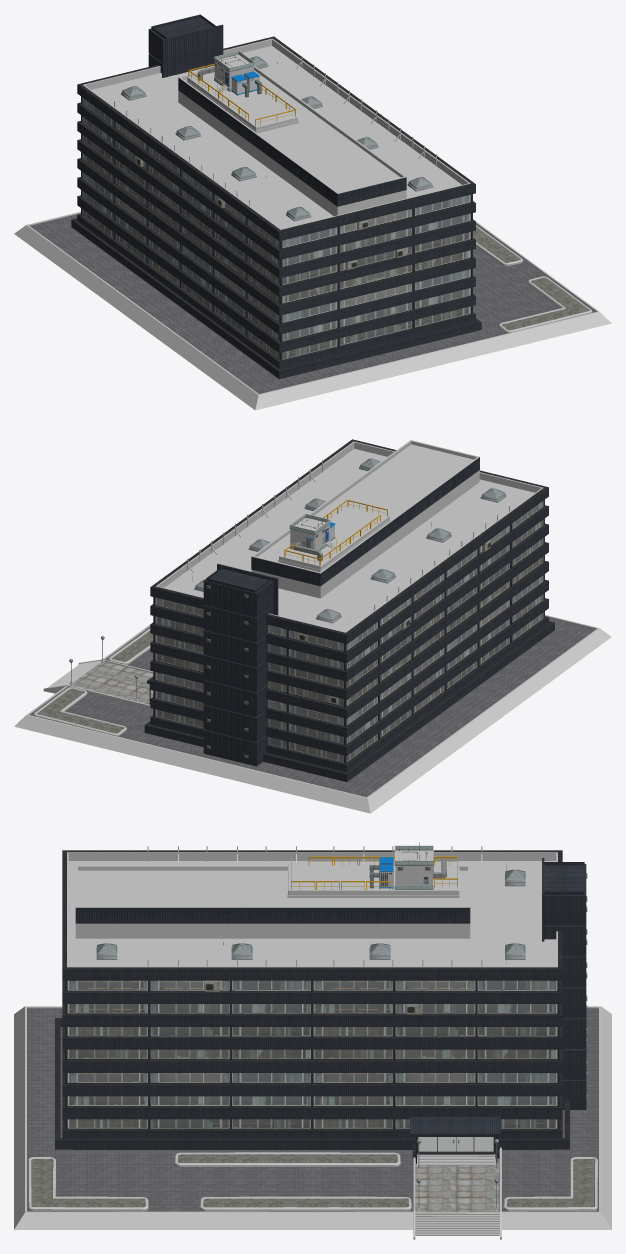
Rendered from u2WBuild1.gltf.
The picture shows the model from 3 angles, top to bottom: view 1: azimuth 30°, elevation 25°; view 2: azimuth 150°, elevation 25°; view 3: azimuth 270°, elevation 25°; orthographic projection. The views are drawn at different scales.
Parts seen in each view (by area): view 1: u2WBuild1; view 2: u2WBuild1; view 3: u2WBuild1.
Part boxes in pixels (box(x1,y1,x2,y2)): u2WBuild1: box(14, 14, 611, 410); u2WBuild1: box(14, 439, 611, 813); u2WBuild1: box(14, 842, 611, 1239).
Size of the model in its own units: 24.81 by 12.94 by 27.91.
